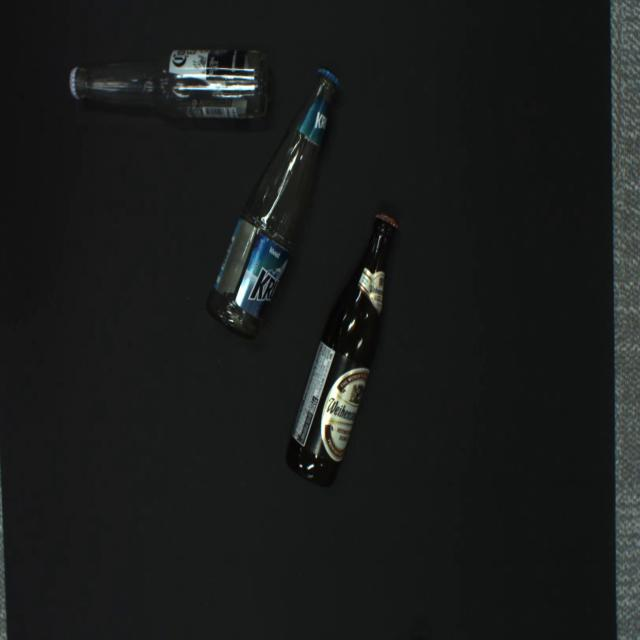beer-bottle: (206, 68, 340, 340), (285, 212, 399, 487), (69, 50, 269, 120)
